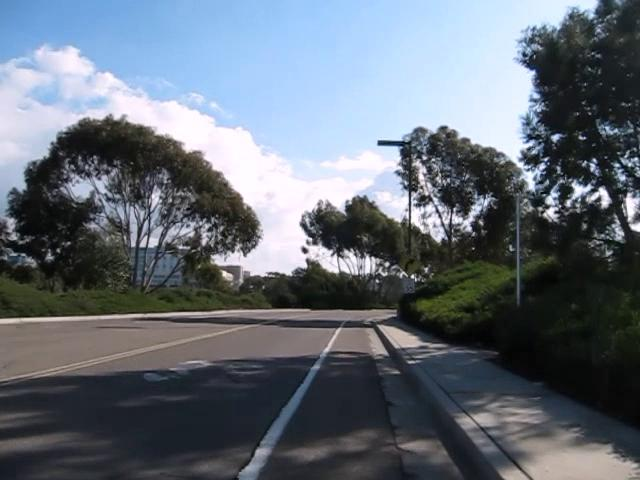speedLimit35: (401, 276, 416, 293)
